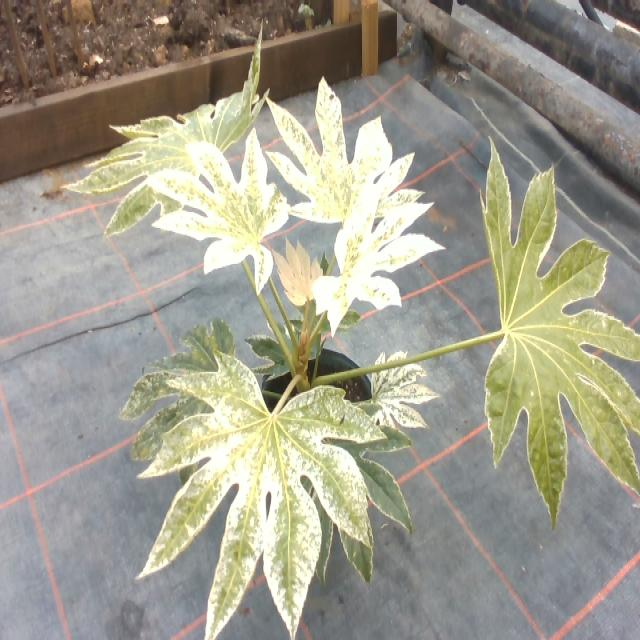Fatsia-japonica: (127, 326, 375, 626), (451, 147, 640, 517), (69, 31, 284, 238), (106, 312, 270, 488), (261, 83, 434, 249), (266, 395, 423, 575), (151, 131, 288, 285), (312, 192, 434, 330), (374, 341, 427, 432), (252, 314, 320, 378)
